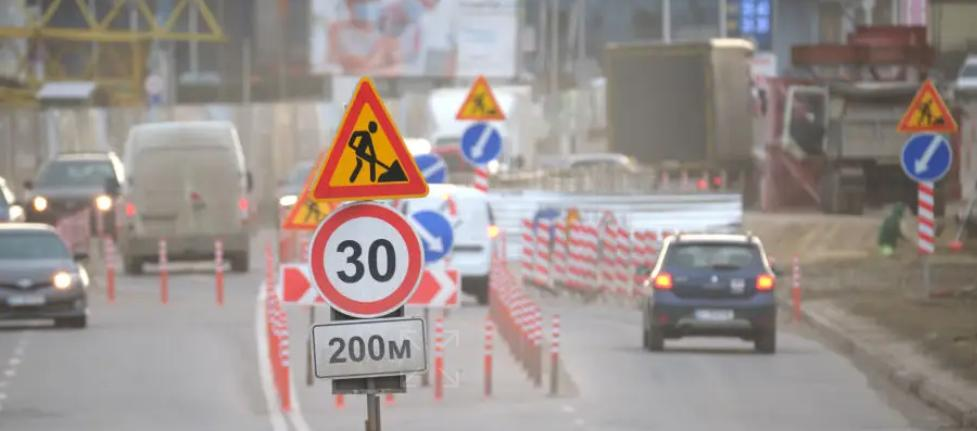obstructed_road_sign: (282, 263, 460, 306), (282, 174, 334, 230), (407, 210, 453, 262), (413, 154, 445, 183)
road_sign: (311, 75, 429, 197), (308, 201, 424, 318), (313, 318, 426, 378), (898, 81, 958, 132), (901, 132, 952, 181), (455, 75, 505, 120), (460, 121, 502, 165), (918, 182, 934, 253)
